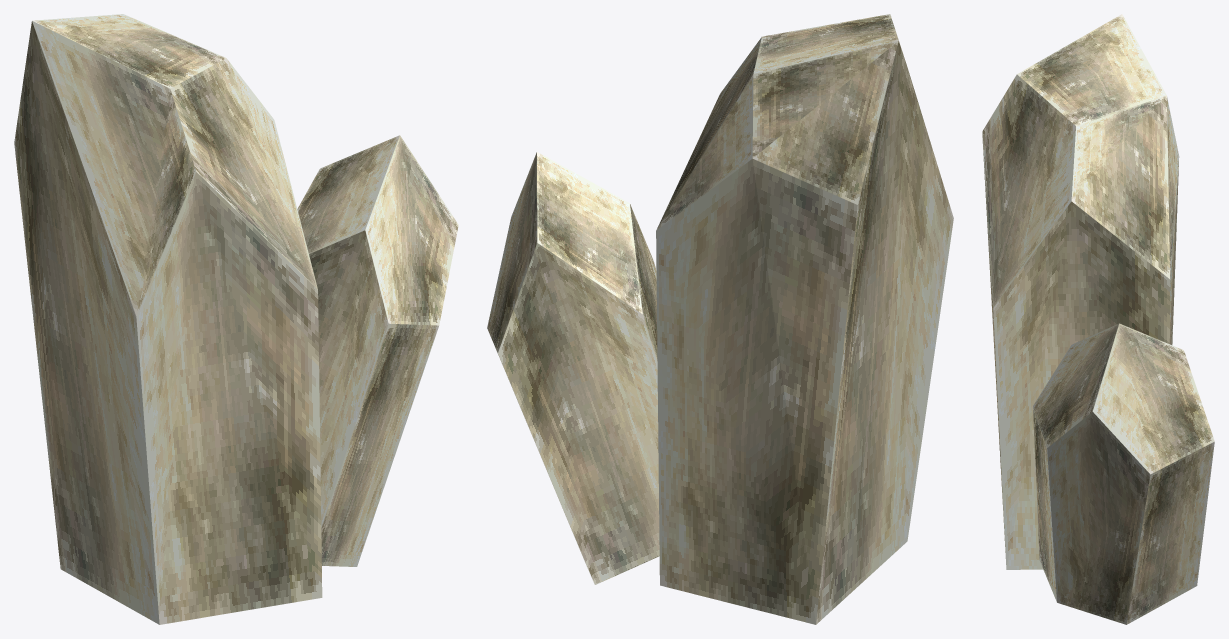
3 renders of one model, left to right at view 1: azimuth 30°, elevation 25°; view 2: azimuth 150°, elevation 25°; view 3: azimuth 270°, elevation 25°, orthographic. The views are drawn at different scales.
Visible parts, largest first — view 1: mn_07; view 2: mn_07; view 3: mn_07.
Boxes of the visible parts, x1,y1,x2,y2 form: mn_07: (14,14,458,624); mn_07: (487,14,953,624); mn_07: (982,14,1214,624).
Bounding box in the file's own units: 0.2685 × 0.3769 × 0.1632.
Materials: 1 (1 with a texture image).
